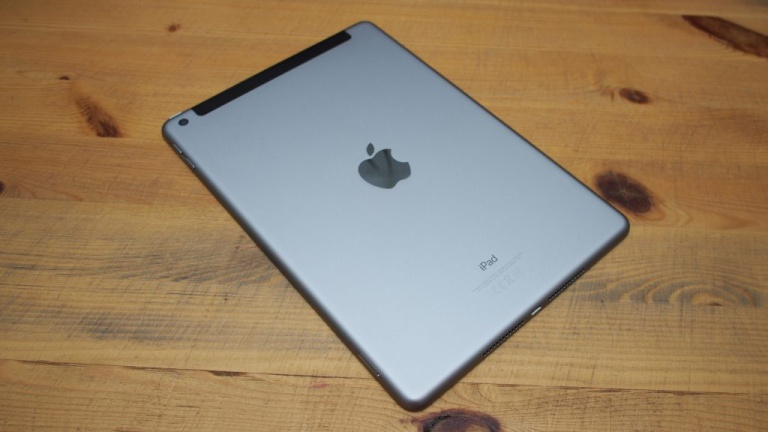apple: (348, 139, 446, 207)
